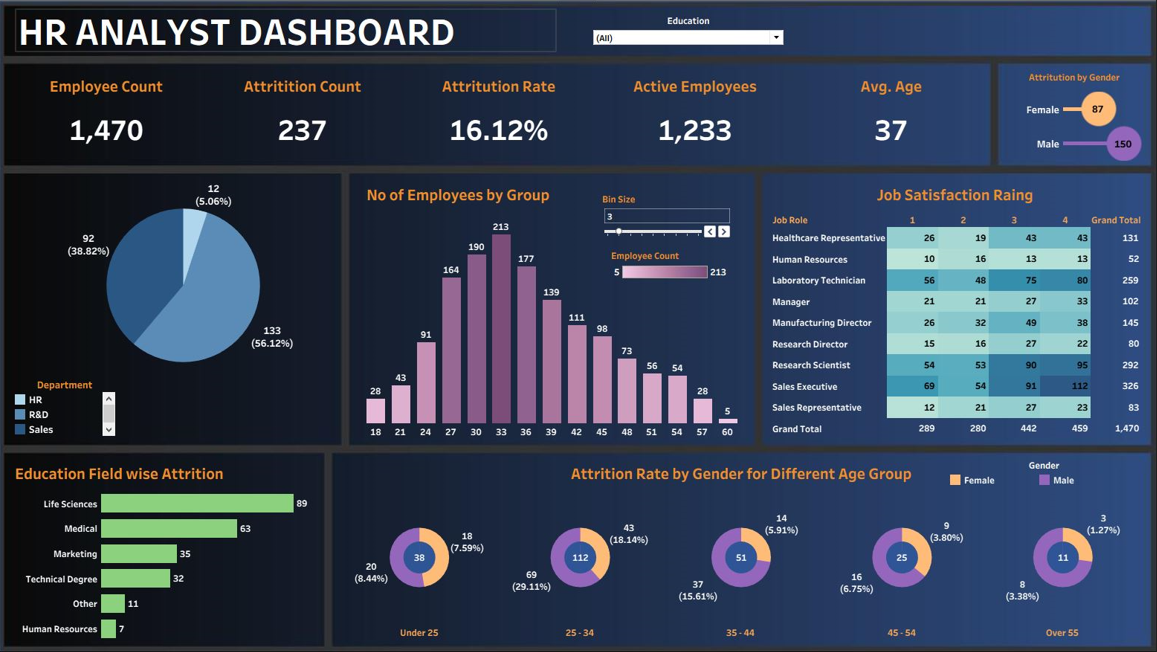

Layout of this report page (visuals, bound fields, positions):
{"tool":"tableau","page":{"name":"HR ANALYST DASHBOARD","canvas":[1580,900],"ordinal":0},"visuals":[{"type":"image","param":"D:/Software/For Other/AI/Data Science/Tableau/Background_Png_Icon/HR background.","box":[9,9,1562,882]},{"type":"image","param":"D:/Software/For Other/AI/Data Science/Software/Tableau/Background_Png_Icon/Backg","box":[10,13,1556,876]},{"type":"text","box":[33,25,725,55]},{"type":"filter","title":"Department wise Attritition","param":"[federated.0lu8q9i108o6ko139h86v0rz66iz].[none:Education:nk]","box":[806,31,262,49]},{"type":"worksheet","title":"KPI","mark":"Automatic","box":[22,100,1320,130]},{"type":"worksheet","title":"Attritution by Gender","mark":"Automatic","rows":["Gender"],"cols":["Calculation_608830397476696064","Calculation_608830397476696064"],"box":[1361,103,190,125]},{"type":"worksheet","title":"Department wise Attritition","mark":"Pie","box":[57,252,401,287]},{"type":"worksheet","title":"No of Employees by Group","mark":"Automatic","rows":["Employee Count"],"cols":["Age (bin)"],"box":[500,255,507,347]},{"type":"worksheet","title":"Job Satisfaction Raing","mark":"Square","rows":["Job Role"],"cols":["Job Satisfaction"],"box":[1044,255,503,347]},{"type":"parameter","param":"[Parameters].[Parameter 1]","box":[821,271,175,71]},{"type":"legend","title":"No of Employees by Group","param":"[federated.0lu8q9i108o6ko139h86v0rz66iz].[sum:Employee Count:qk]","box":[833,347,160,60]},{"type":"legend","title":"Department wise Attritition","param":"[federated.0lu8q9i108o6ko139h86v0rz66iz].[none:Department:nk]","box":[28,520,140,78]},{"type":"legend","title":"Attrition Rate by Gender for Different Age Group","param":"[federated.0lu8q9i108o6ko139h86v0rz66iz].[none:Gender:nk]","box":[1286,629,259,49]},{"type":"worksheet","title":"Education Field wise Attrition","mark":"Automatic","rows":["Education Field"],"cols":["Calculation_608830397476696064"],"box":[27,630,417,244]},{"type":"worksheet","title":"Attrition Rate by Gender for Different Age Group","mark":"Pie","rows":["Calculation_608830397524078596","Calculation_608830397524078596"],"cols":["CF_age band"],"box":[467,630,1082,242]}]}

Visuals, with their boxes in screenshot pixels (x1, y1, x2, y2), scaled from the page's 1580x900 canvas onto the 1157x652 screenshot:
image: [x1=7, y1=7, x2=1150, y2=645]
image: [x1=7, y1=9, x2=1147, y2=644]
text: [x1=24, y1=18, x2=555, y2=58]
"Department wise Attritition" filter: [x1=590, y1=22, x2=782, y2=58]
"KPI" worksheet: [x1=16, y1=72, x2=983, y2=167]
"Attritution by Gender" worksheet: [x1=997, y1=75, x2=1136, y2=165]
"Department wise Attritition" worksheet (Pie marks): [x1=42, y1=183, x2=335, y2=390]
"No of Employees by Group" worksheet: [x1=366, y1=185, x2=737, y2=436]
"Job Satisfaction Raing" worksheet (Square marks): [x1=764, y1=185, x2=1133, y2=436]
parameter: [x1=601, y1=196, x2=729, y2=248]
"No of Employees by Group" legend: [x1=610, y1=251, x2=727, y2=295]
"Department wise Attritition" legend: [x1=21, y1=377, x2=123, y2=433]
"Attrition Rate by Gender for Different Age Group" legend: [x1=942, y1=456, x2=1131, y2=491]
"Education Field wise Attrition" worksheet: [x1=20, y1=456, x2=325, y2=633]
"Attrition Rate by Gender for Different Age Group" worksheet (Pie marks): [x1=342, y1=456, x2=1134, y2=632]
